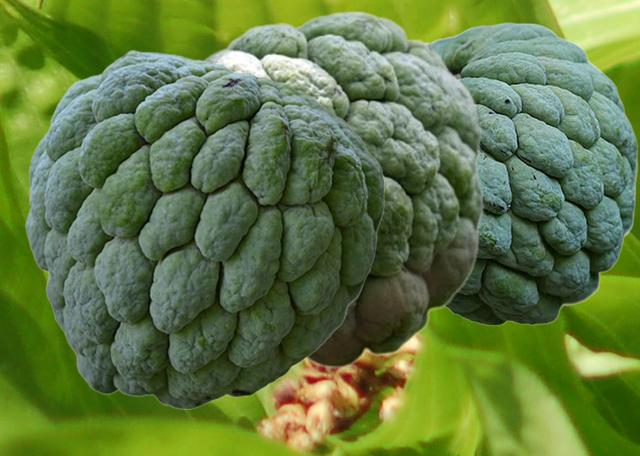atis: (25, 50, 384, 408), (203, 10, 484, 368), (425, 22, 637, 325)
